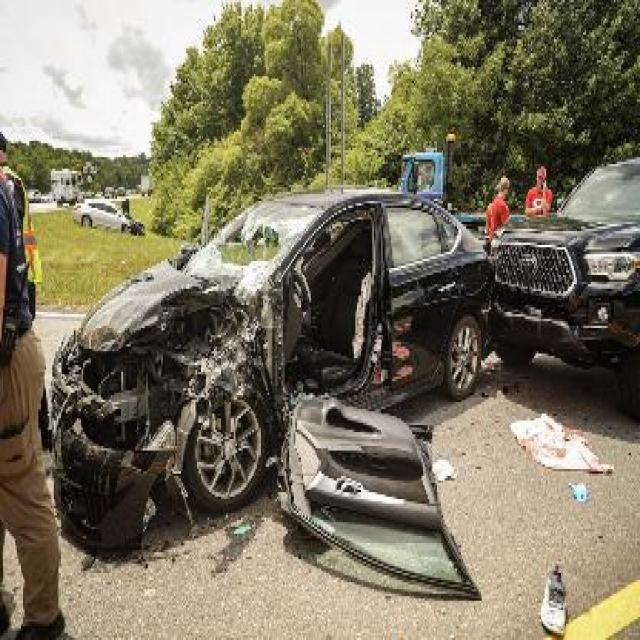accident: (43, 119, 634, 609)
